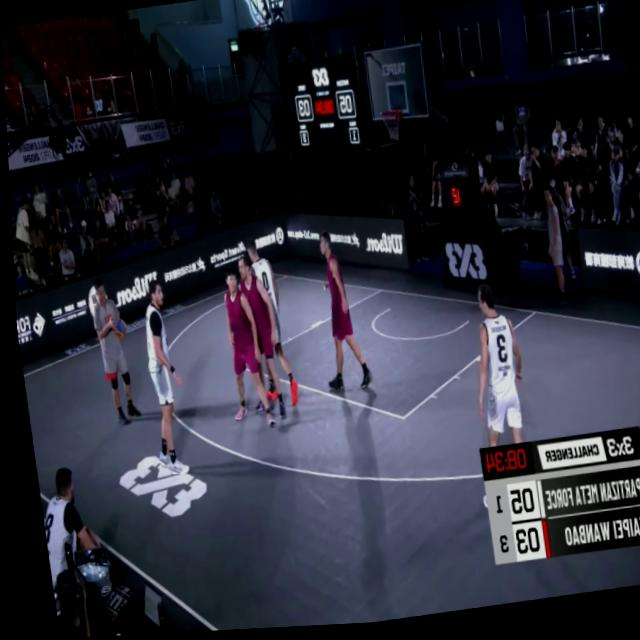ball: (107, 313, 128, 347)
hoop: (377, 107, 404, 148)
player: (446, 279, 536, 516), (132, 279, 187, 471), (304, 235, 366, 401), (211, 265, 268, 438), (224, 258, 283, 425), (241, 241, 293, 417)
